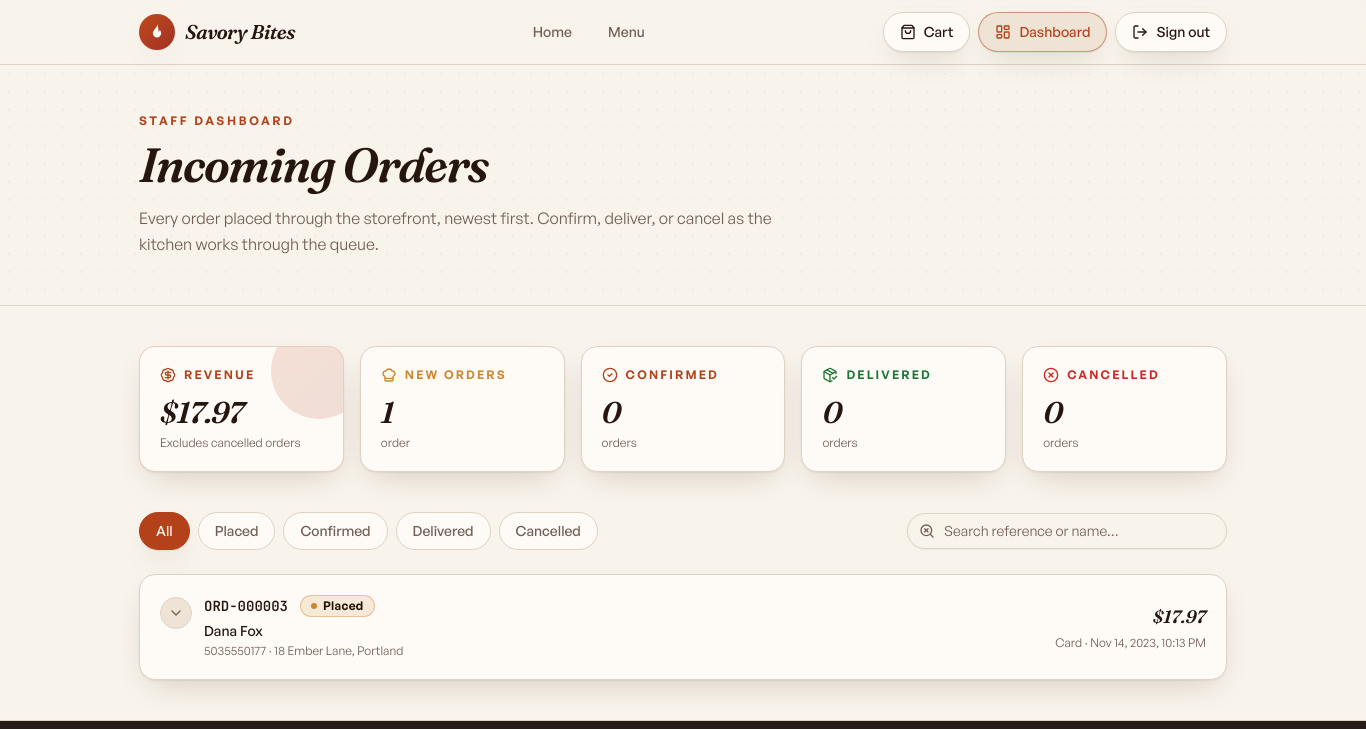
Test case: admin dashboard › expands an order to show line items, subtotal, delivery fee, and cardholder
This screenshot has width=1366, height=729.
Expected: the list with test id "admin.order.list" is shown, [139,574,1227,680]
What coordinates should you click on to do the following:
click the button with test id "admin.order.toggle.1"
I would click on:
 (176, 613)
Its box is [160,595,1039,659].
(page scrolled)
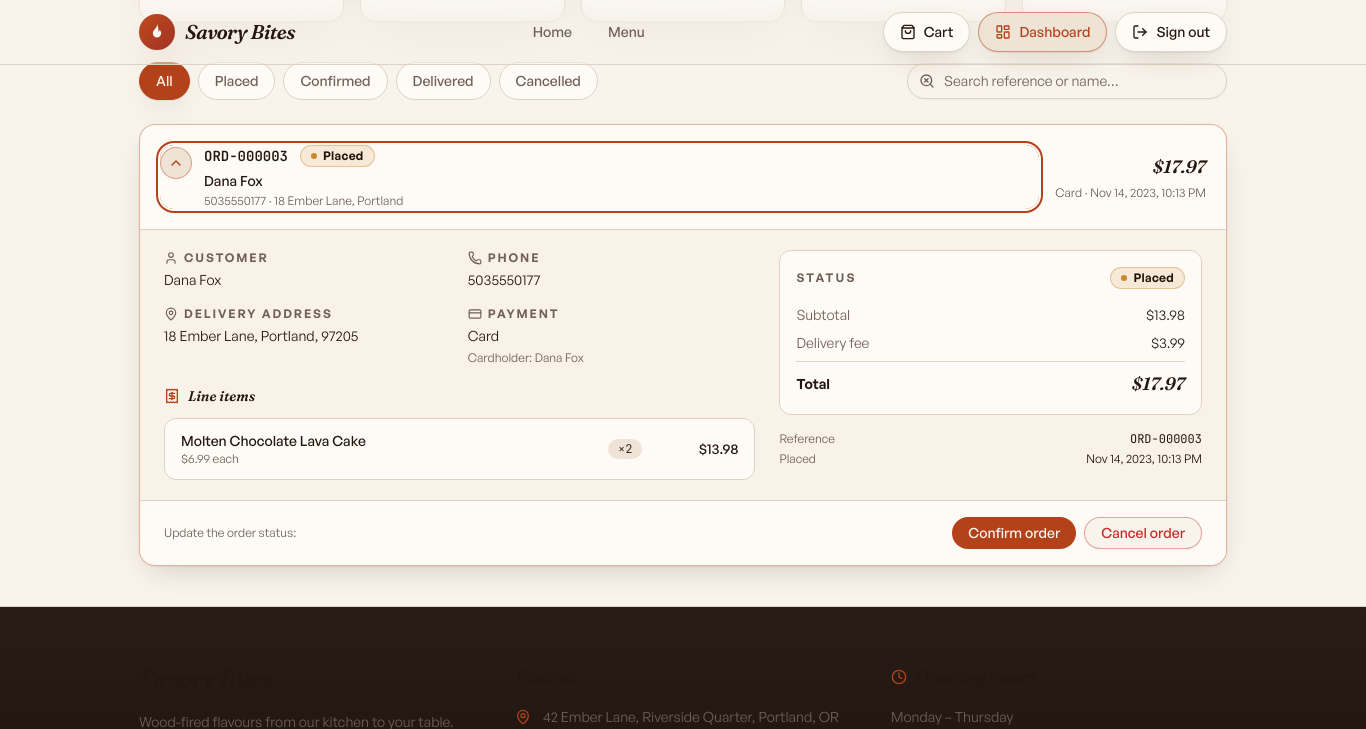
Now the text "Molten Chocolate Lava Cake" is shown, box [181,431,366,451]
Now the text "$6.99 each" is shown, box [181,451,239,466]
Now the text "×2" is shown, box [608,439,642,459]
